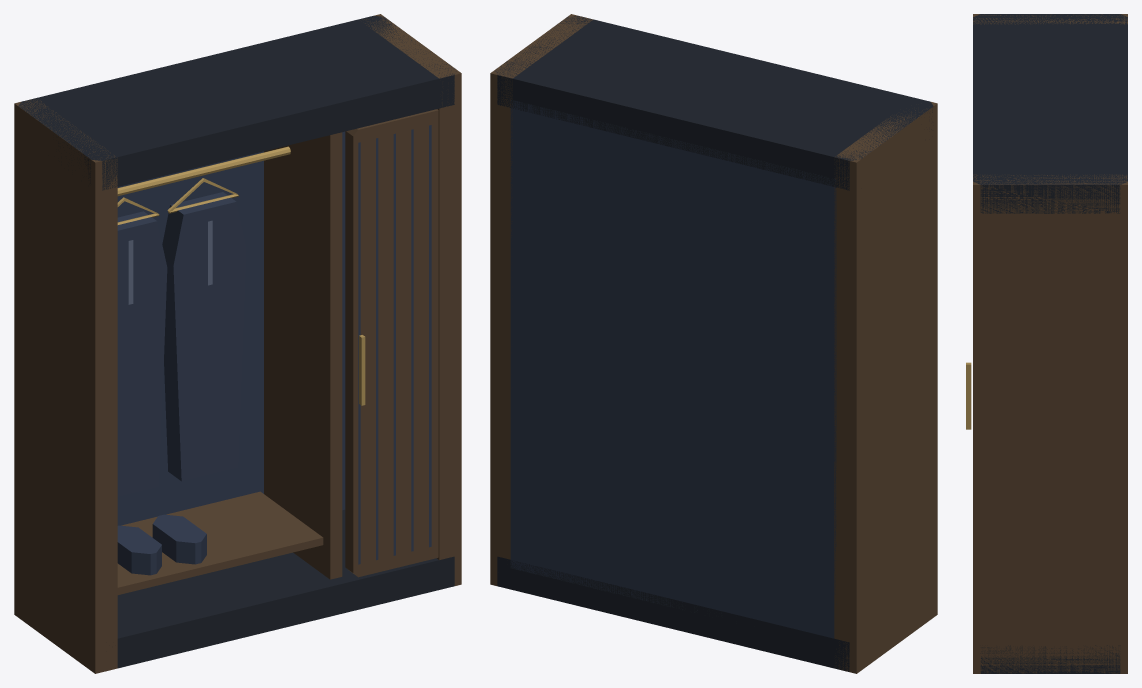
File: res_coat_closet.glb
3 views of the same model, side by side, from view 1: azimuth 30°, elevation 25°; view 2: azimuth 150°, elevation 25°; view 3: azimuth 270°, elevation 25° (orthographic). The views are drawn at different scales.
Visible parts, largest first — view 1: open_bay_divider, cabinet_cap, long_coat, door_reed, closet_handle, coat_lapel; view 2: door_reed, open_bay_divider, cabinet_cap; view 3: open_bay_divider, cabinet_cap, closet_handle.
Part boxes in pixels (box(x1,y1,x2,y2)): open_bay_divider: box(14, 14, 461, 673); cabinet_cap: box(18, 15, 456, 668); long_coat: box(117, 192, 246, 496); door_reed: box(117, 125, 431, 575); closet_handle: box(117, 146, 365, 405); coat_lapel: box(128, 220, 212, 304); door_reed: box(510, 100, 836, 638); open_bay_divider: box(490, 14, 937, 673); cabinet_cap: box(495, 16, 933, 671); open_bay_divider: box(973, 14, 1127, 673); cabinet_cap: box(973, 14, 1127, 673); closet_handle: box(966, 362, 971, 429).
Bounding box in the file's own units: 1.8 × 2.4 × 0.72.
